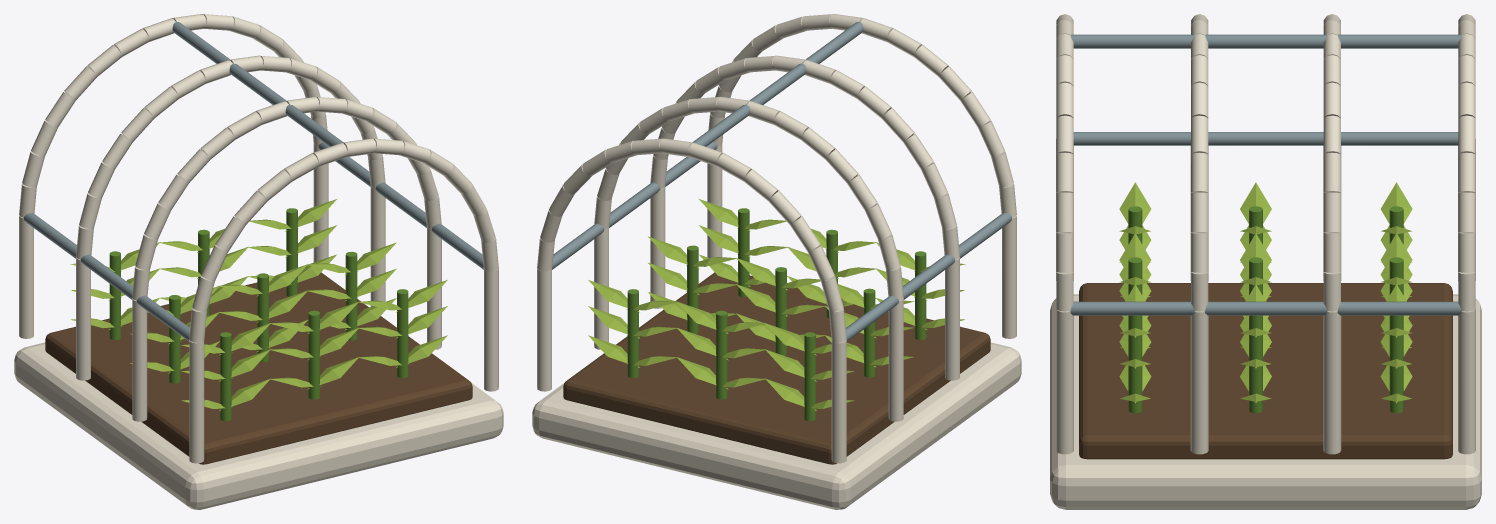
File: greenhouse-2m.glb
3 views of the same model, side by side, from view 1: azimuth 30°, elevation 25°; view 2: azimuth 150°, elevation 25°; view 3: azimuth 270°, elevation 25° (orthographic). The views are drawn at different scales.
Parts seen in each view (by area): view 1: greenhouse-2m__ivory, greenhouse-2m__soil, greenhouse-2m__leafLight, greenhouse-2m__leaf, greenhouse-2m__steel; view 2: greenhouse-2m__ivory, greenhouse-2m__soil, greenhouse-2m__leafLight, greenhouse-2m__leaf, greenhouse-2m__steel; view 3: greenhouse-2m__ivory, greenhouse-2m__soil, greenhouse-2m__steel, greenhouse-2m__leafLight, greenhouse-2m__leaf.
Part boxes in pixels (x1,y1,x2,y2): greenhouse-2m__ivory: (14,14,503,509); greenhouse-2m__soil: (45,272,472,464); greenhouse-2m__leafLight: (70,199,447,410); greenhouse-2m__leaf: (109,208,408,421); greenhouse-2m__steel: (24,20,483,341); greenhouse-2m__ivory: (532,14,1021,509); greenhouse-2m__soil: (563,272,990,464); greenhouse-2m__leafLight: (588,199,965,410); greenhouse-2m__leaf: (627,208,926,421); greenhouse-2m__steel: (552,20,1011,341); greenhouse-2m__ivory: (1050,14,1481,509); greenhouse-2m__soil: (1079,283,1452,459); greenhouse-2m__steel: (1070,34,1461,315); greenhouse-2m__leafLight: (1119,182,1412,403); greenhouse-2m__leaf: (1128,206,1403,413).
Bounding box in the file's own units: 2.15 × 2.14 × 2.15.
